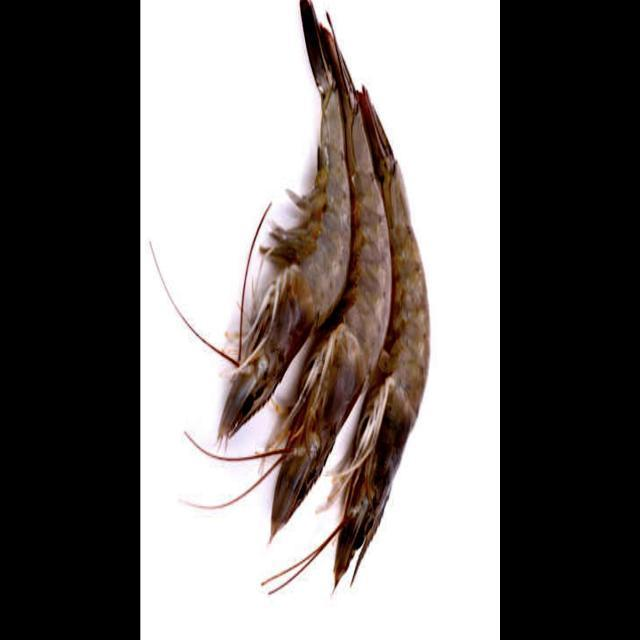shrimp: (272, 32, 391, 535), (220, 0, 352, 437), (335, 88, 430, 582)
